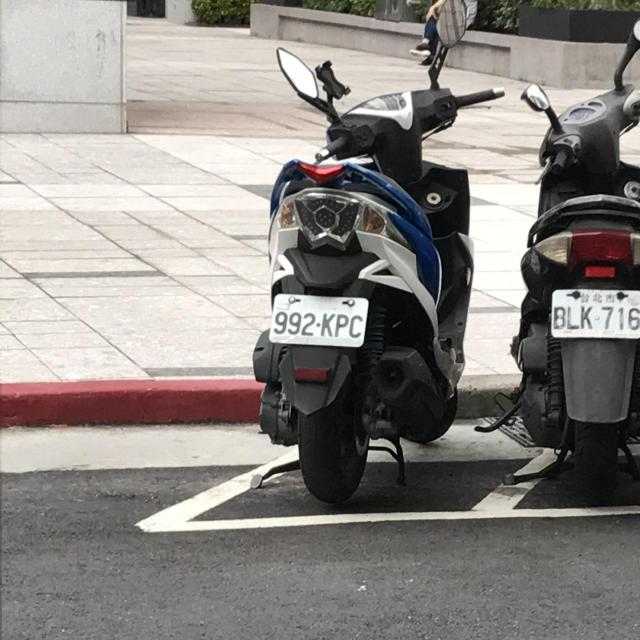W: (265, 289, 374, 352), (541, 284, 640, 344)
